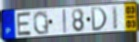8: (71, 8, 85, 33)
D: (91, 6, 109, 32)
E: (16, 11, 33, 37)
I: (112, 5, 119, 31), (62, 8, 67, 34)
Q: (32, 10, 50, 36)
